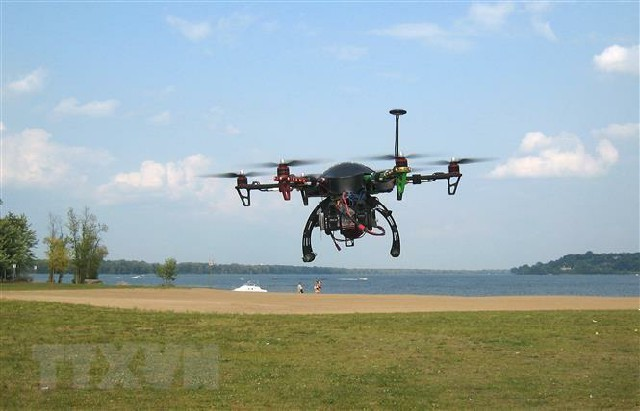maybay_khongnguoilai: (226, 141, 461, 253)
